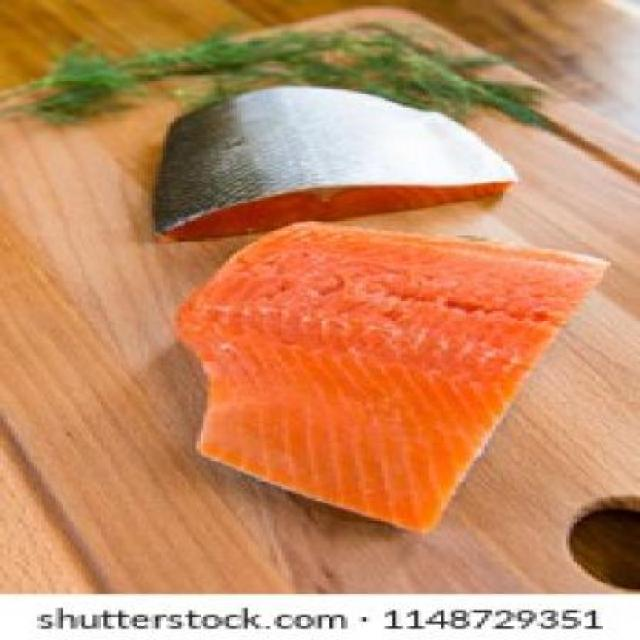salmon: (160, 203, 582, 551)
